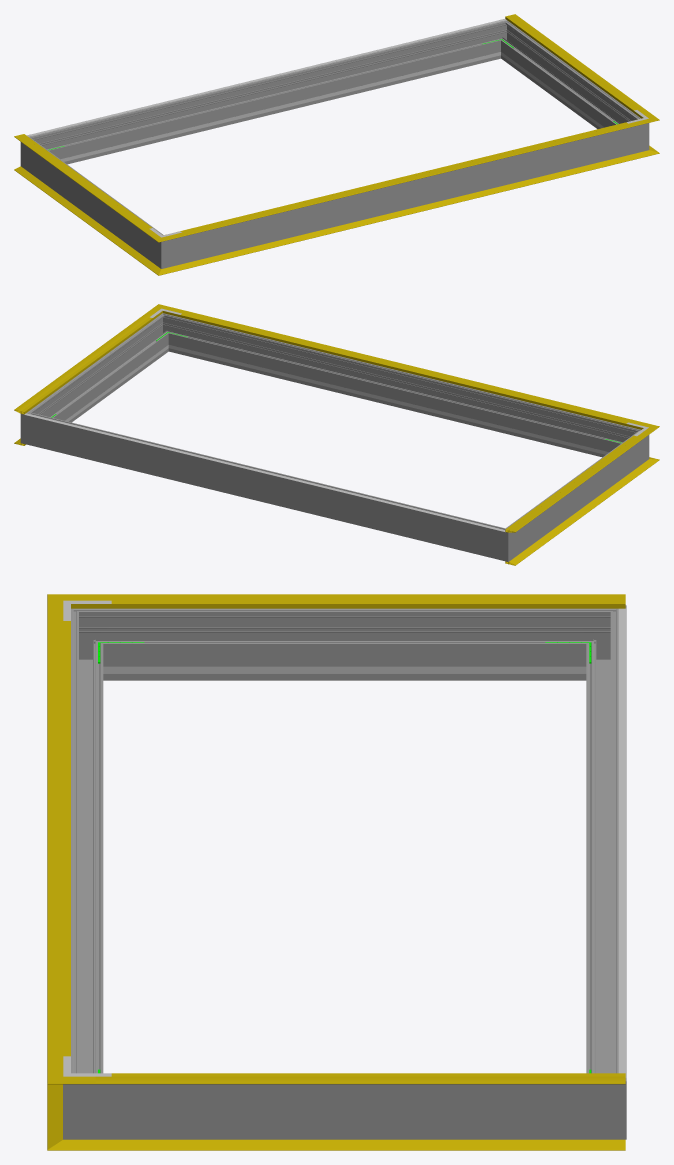
The picture shows the model from 3 angles, top to bottom: view 1: azimuth 30°, elevation 25°; view 2: azimuth 150°, elevation 25°; view 3: azimuth 270°, elevation 25°; orthographic projection. The views are drawn at different scales.
Parts seen in each view (by area): view 1: 3DGeom-276, 3DGeom-298, 3DGeom-297, 3DGeom-268, 3DGeom-28, 3DGeom-141, 3DGeom-244, 3DGeom-145, 3DGeom-38, 3DGeom-220, 3DGeom-158, 3DGeom-147 (+6 smaller); view 2: 3DGeom-298, 3DGeom-276, 3DGeom-297, 3DGeom-141, 3DGeom-268, 3DGeom-239, 3DGeom-145, 3DGeom-38, 3DGeom-220, 3DGeom-158, 3DGeom-147, 3DGeom-278 (+5 smaller); view 3: 3DGeom-268, 3DGeom-297, 3DGeom-276, 3DGeom-298, 3DGeom-141, 3DGeom-147, 3DGeom-30, 3DGeom-145, 3DGeom-220, 3DGeom-158, 3DGeom-232, 3DGeom-284 (+5 smaller).
Part boxes in pixels (box(x1,y1,x2,y2)): 3DGeom-276: box(43, 24, 497, 164); 3DGeom-298: box(182, 128, 628, 263); 3DGeom-297: box(503, 27, 633, 129); 3DGeom-268: box(32, 144, 155, 259); 3DGeom-28: box(176, 153, 638, 270); 3DGeom-141: box(176, 122, 638, 237); 3DGeom-244: box(68, 56, 480, 160); 3DGeom-145: box(505, 14, 646, 115); 3DGeom-38: box(14, 166, 152, 266); 3DGeom-220: box(27, 19, 506, 136); 3DGeom-158: box(180, 122, 627, 232); 3DGeom-147: box(14, 134, 152, 233); 3DGeom-298: box(172, 317, 626, 457); 3DGeom-276: box(41, 416, 491, 556); 3DGeom-297: box(36, 320, 166, 422); 3DGeom-141: box(173, 309, 638, 427); 3DGeom-268: box(514, 437, 637, 552); 3DGeom-239: box(189, 349, 601, 453); 3DGeom-145: box(14, 313, 156, 414); 3DGeom-38: box(505, 465, 647, 565); 3DGeom-220: box(24, 413, 505, 531); 3DGeom-158: box(181, 313, 627, 423); 3DGeom-147: box(505, 433, 647, 532); 3DGeom-278: box(487, 522, 520, 561); 3DGeom-268: box(111, 608, 578, 680); 3DGeom-297: box(111, 1084, 578, 1139); 3DGeom-276: box(586, 625, 626, 1073); 3DGeom-298: box(71, 625, 103, 1073); 3DGeom-141: box(47, 614, 63, 1062); 3DGeom-147: box(95, 594, 625, 608); 3DGeom-30: box(95, 1139, 625, 1150); 3DGeom-145: box(95, 1076, 625, 1084); 3DGeom-220: box(618, 608, 626, 1078); 3DGeom-158: box(63, 621, 70, 1056); 3DGeom-232: box(150, 666, 539, 673); 3DGeom-284: box(578, 1061, 626, 1139).
Bounding box in the file's own units: 3.66 × 0.2357 × 1.83.
